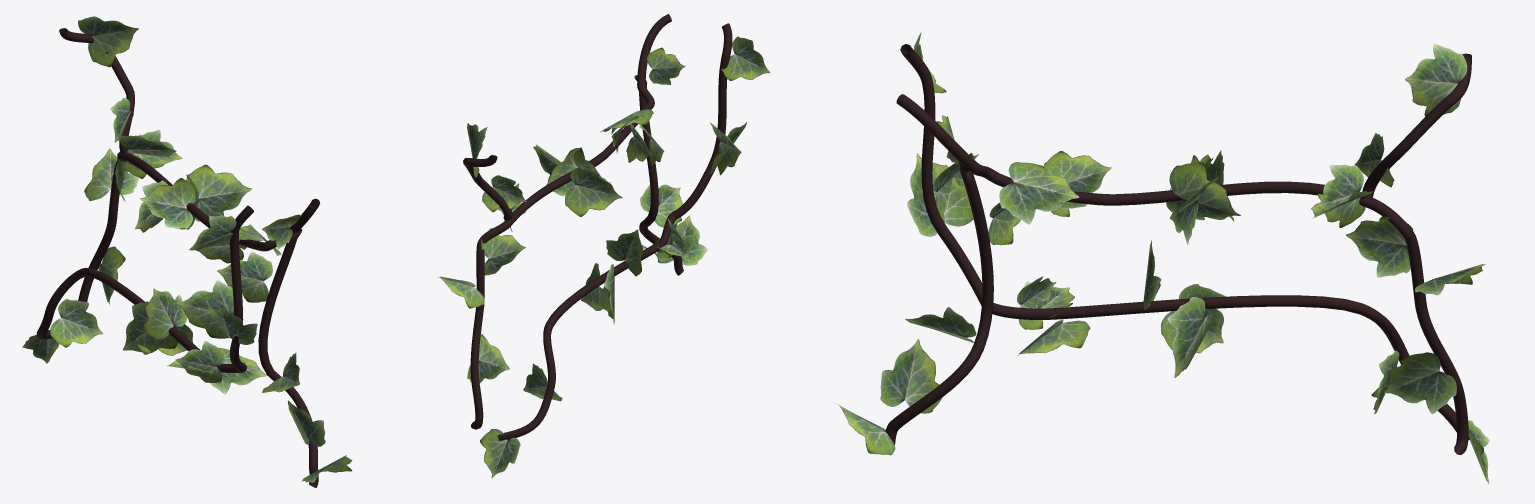
The model's file is bluszcz płotek 2.fbx.
3 views of the same model, side by side, from view 1: azimuth 30°, elevation 25°; view 2: azimuth 150°, elevation 25°; view 3: azimuth 270°, elevation 25° (orthographic). The views are drawn at different scales.
Parts seen in each view (by area): view 1: BézierCurve.003, BézierCurve.004; view 2: BézierCurve.003, BézierCurve.004; view 3: BézierCurve.003, BézierCurve.004.
Part boxes in pixels (x1=…): BézierCurve.003: x1=22, y1=16, x2=352, y2=482; BézierCurve.004: x1=36, y1=28, x2=320, y2=487; BézierCurve.003: x1=437, y1=36, x2=770, y2=478; BézierCurve.004: x1=463, y1=14, x2=732, y2=440; BézierCurve.003: x1=836, y1=32, x2=1489, y2=483; BézierCurve.004: x1=885, y1=44, x2=1471, y2=454.
Bounding box in the file's own units: 45.22 × 89.96 × 122.
